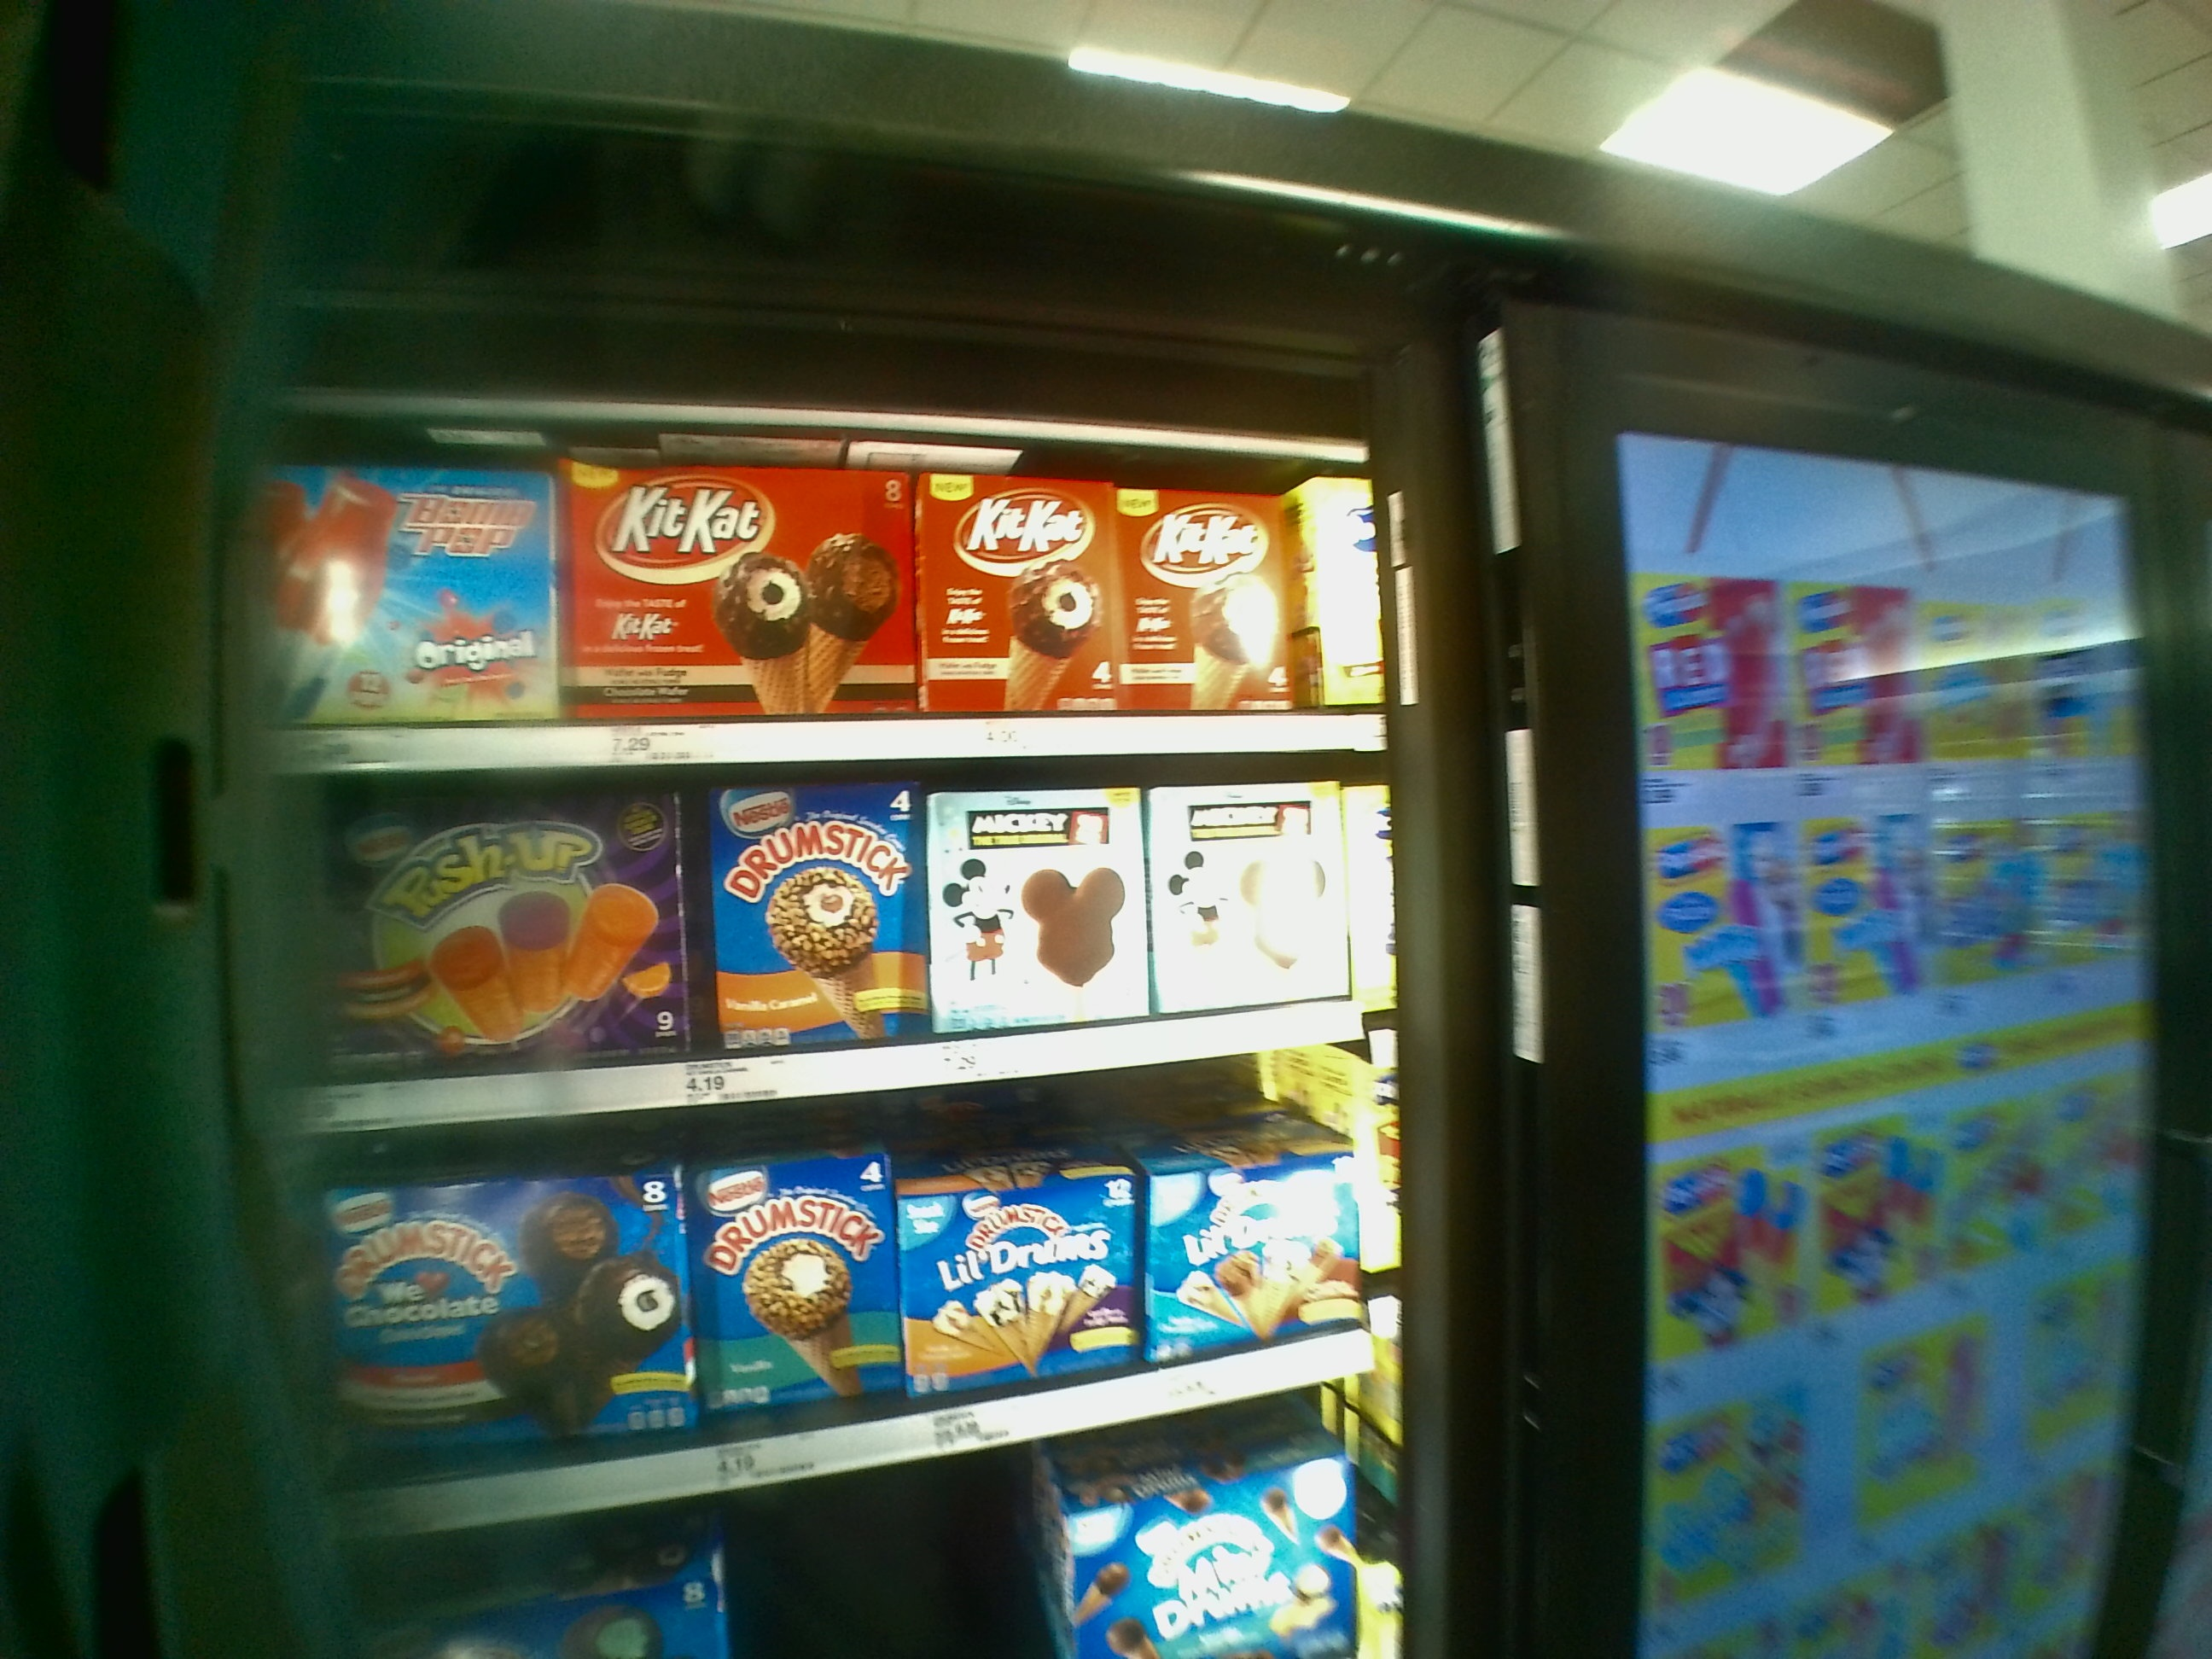shelf: (237, 406, 1385, 769), (308, 1087, 1397, 1453), (251, 781, 1406, 1117)
